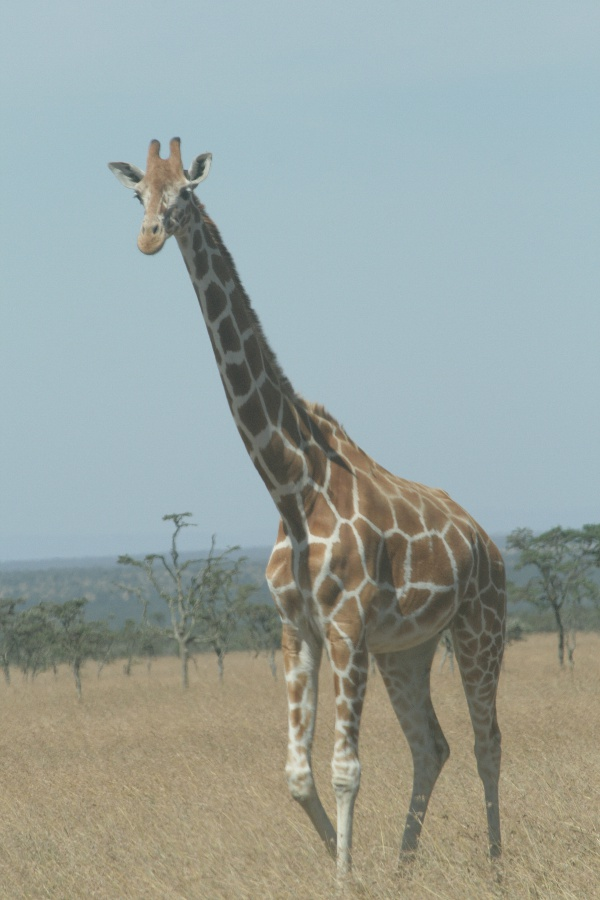giraffe: (100, 127, 528, 883)
